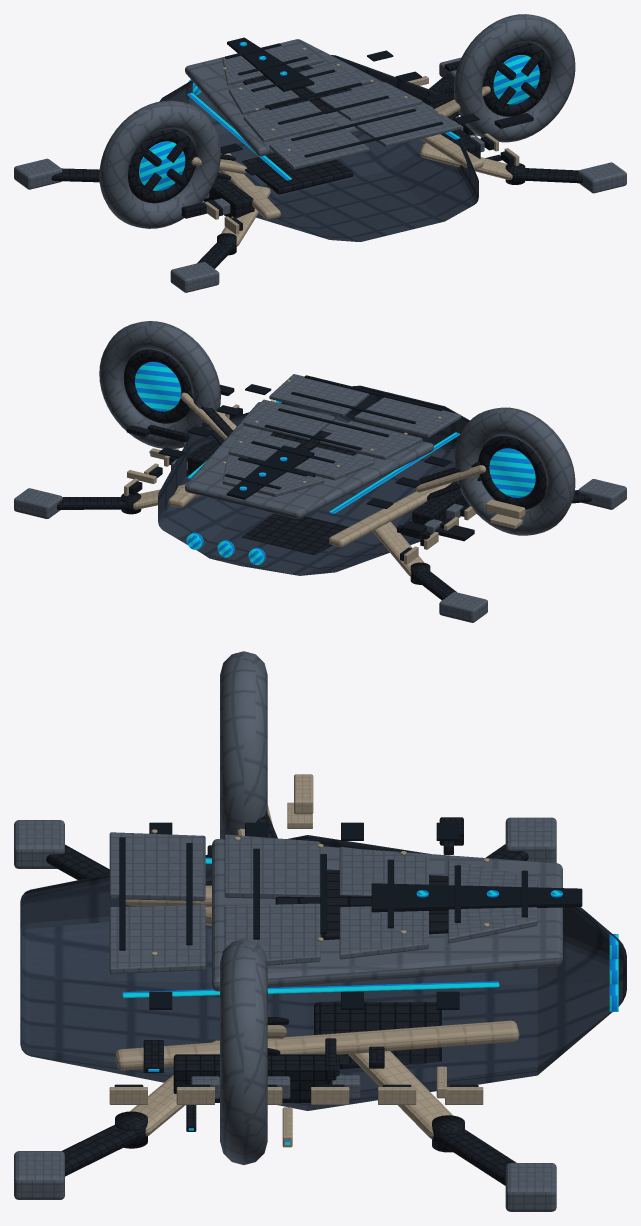
The model's file is aur-wisp-drone.glb.
3 renders of one model, top to bottom at view 1: azimuth 30°, elevation 25°; view 2: azimuth 150°, elevation 25°; view 3: azimuth 270°, elevation 25°, orthographic. The views are drawn at different scales.
Visible parts, largest first — view 1: Sensor_Core, Thruster_Ring_L, Thruster_Ring_R, Core_Top_Armor, Core_Armor_Plate_L_1, Core_Armor_Plate_R_1, Ventral_Sensor_Cradle, Core_Armor_Plate_R_2, Core_Armor_Plate_L_2, Thruster_Ring_L_Inner, Thruster_Ring_R_Inner, Sensor_Recess (+23 smaller); view 2: Sensor_Core, Thruster_Ring_L, Thruster_Ring_R, Core_Top_Armor, Ventral_Sensor_Cradle, Core_Armor_Plate_L_1, Core_Armor_Plate_R_1, Thruster_Ring_R_Inner, Thruster_Ring_L_Inner, Core_Armor_Plate_L_2, Core_Armor_Plate_R_2, Thruster_Ring_L_Glow (+22 smaller); view 3: Sensor_Core, Core_Top_Armor, Thruster_Ring_R, Thruster_Ring_L, Core_Side_Rail_R, Core_Armor_Plate_R_1, Core_Armor_Plate_L_1, Core_Armor_Plate_L_2, Core_Armor_Plate_R_2, Sensor_Recess, Ventral_Sensor_Cradle, Core_Armor_Plate_R_3 (+19 smaller).
Part boxes in pixels (box(x1,y1,x2,y2)): Sensor_Core: box(159, 55, 478, 241); Thruster_Ring_L: box(99, 100, 220, 228); Thruster_Ring_R: box(453, 14, 575, 142); Core_Top_Armor: box(185, 39, 433, 156); Core_Armor_Plate_L_1: box(269, 128, 369, 169); Core_Armor_Plate_R_1: box(354, 106, 461, 147); Ventral_Sensor_Cradle: box(242, 153, 353, 194); Core_Armor_Plate_R_2: box(320, 82, 422, 121); Core_Armor_Plate_L_2: box(243, 100, 334, 142); Thruster_Ring_L_Inner: box(128, 129, 196, 203); Thruster_Ring_R_Inner: box(482, 42, 550, 116); Sensor_Recess: box(227, 37, 314, 91); Sensor_Core: box(158, 385, 469, 575); Thruster_Ring_L: box(453, 407, 575, 535); Thruster_Ring_R: box(99, 321, 220, 448); Core_Top_Armor: box(185, 402, 433, 518); Ventral_Sensor_Cradle: box(242, 513, 348, 554); Core_Armor_Plate_L_1: box(354, 397, 461, 437); Core_Armor_Plate_R_1: box(269, 374, 369, 416); Thruster_Ring_R_Inner: box(123, 349, 191, 423); Thruster_Ring_L_Inner: box(478, 436, 546, 509); Core_Armor_Plate_L_2: box(320, 421, 422, 459); Core_Armor_Plate_R_2: box(243, 399, 334, 439); Thruster_Ring_L_Glow: box(489, 448, 535, 497); Sensor_Core: box(20, 835, 626, 1110); Core_Top_Armor: box(212, 839, 562, 991); Thruster_Ring_R: box(220, 939, 267, 1164); Thruster_Ring_L: box(220, 651, 267, 839); Core_Side_Rail_R: box(115, 1020, 519, 1070); Core_Armor_Plate_R_1: box(109, 905, 205, 973); Core_Armor_Plate_L_1: box(109, 832, 205, 901); Core_Armor_Plate_L_2: box(224, 834, 320, 898); Core_Armor_Plate_R_2: box(224, 903, 320, 965); Sensor_Recess: box(371, 883, 582, 912); Ventral_Sensor_Cradle: box(314, 1002, 441, 1069); Core_Armor_Plate_R_3: box(339, 906, 428, 959).
Size of the model in its own units: 2.56 by 0.78 by 1.73.
Materials: 6 (5 with a texture image).
